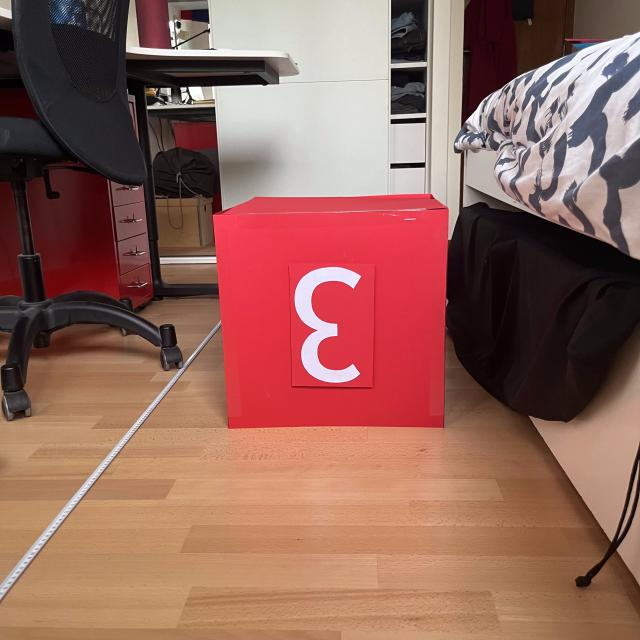box: (208, 190, 452, 432)
